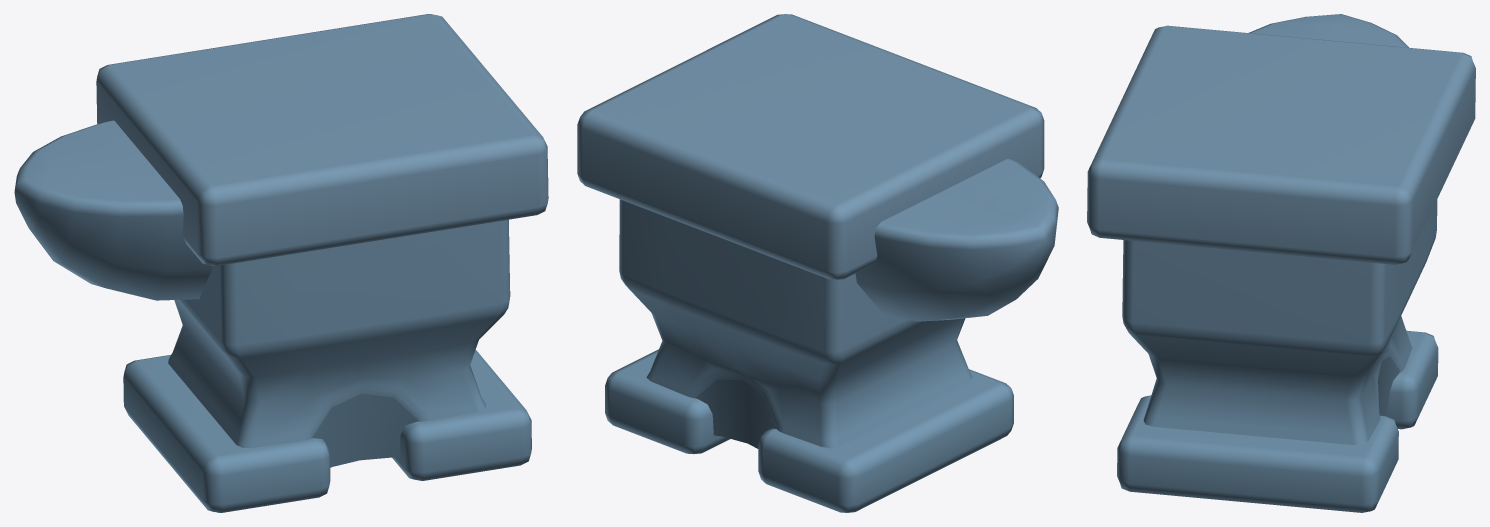
3 renders of one model, left to right at view 1: azimuth 30°, elevation 25°; view 2: azimuth 150°, elevation 25°; view 3: azimuth 270°, elevation 25°, orthographic. The views are drawn at different scales.
Parts seen in each view (by area): view 1: model_1.003; view 2: model_1.003; view 3: model_1.003.
Part boxes in pixels (box(x1,y1,x2,y2)): model_1.003: box(14, 14, 548, 512); model_1.003: box(577, 14, 1058, 512); model_1.003: box(1087, 14, 1475, 512).
Size of the model in its own units: 5.53 by 3.99 by 4.15.
